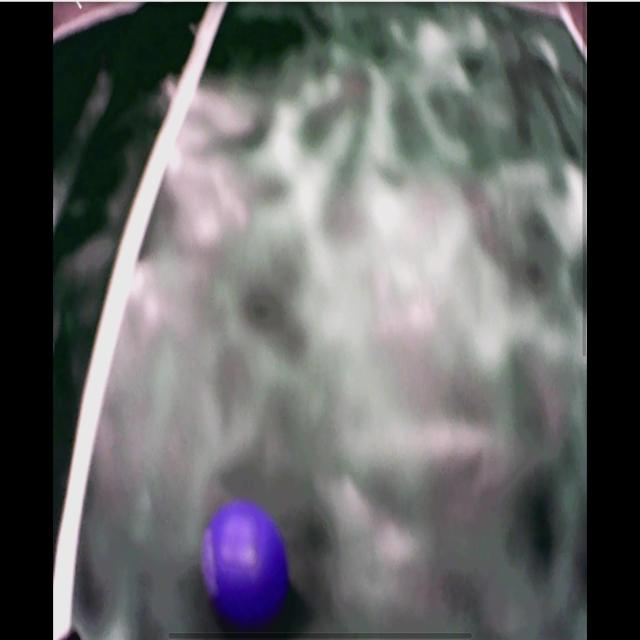ball: (198, 504, 288, 624)
